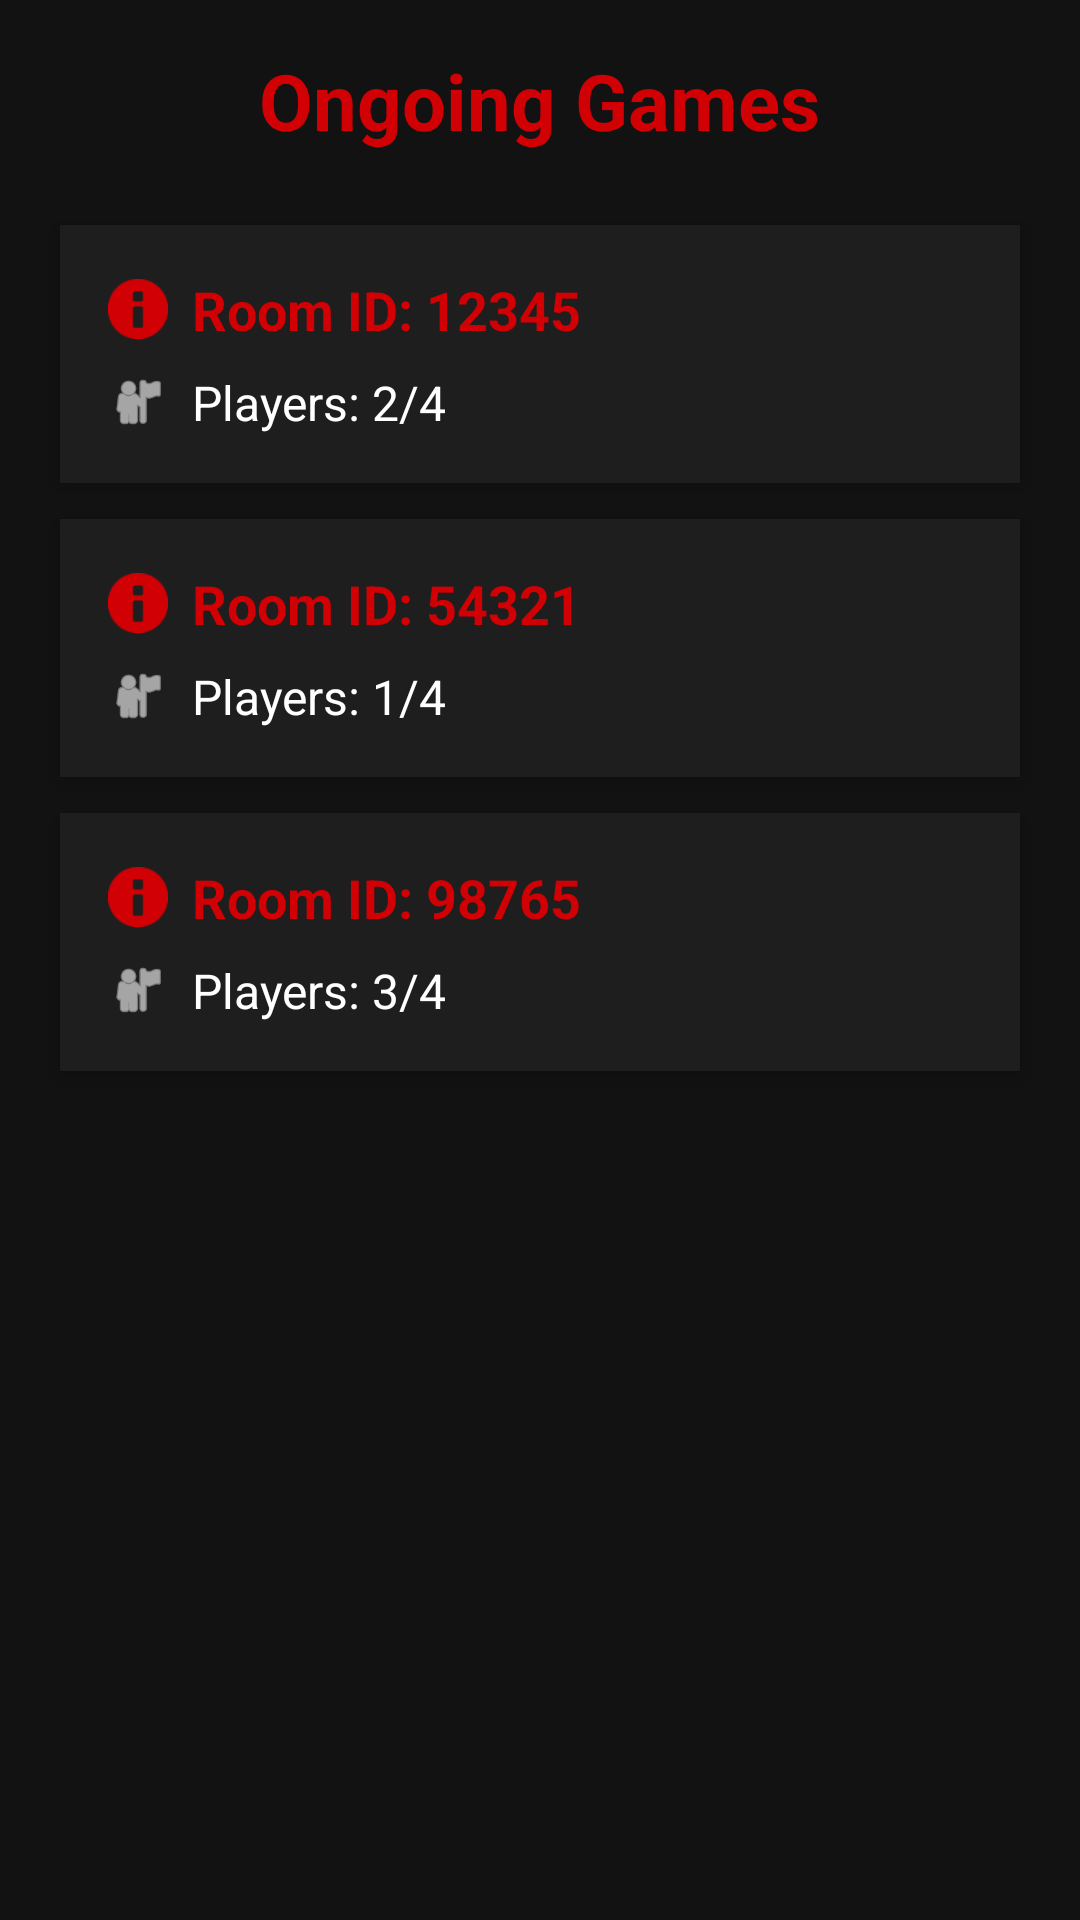

Screen size 1080w x 1920h. Icon name, then its center in pixels as point (x, y):
info: point (138, 309), point (138, 603), point (138, 897)
myplaces: point (138, 402), point (138, 696), point (138, 990)
